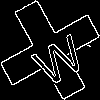W: (25, 25, 89, 89)
